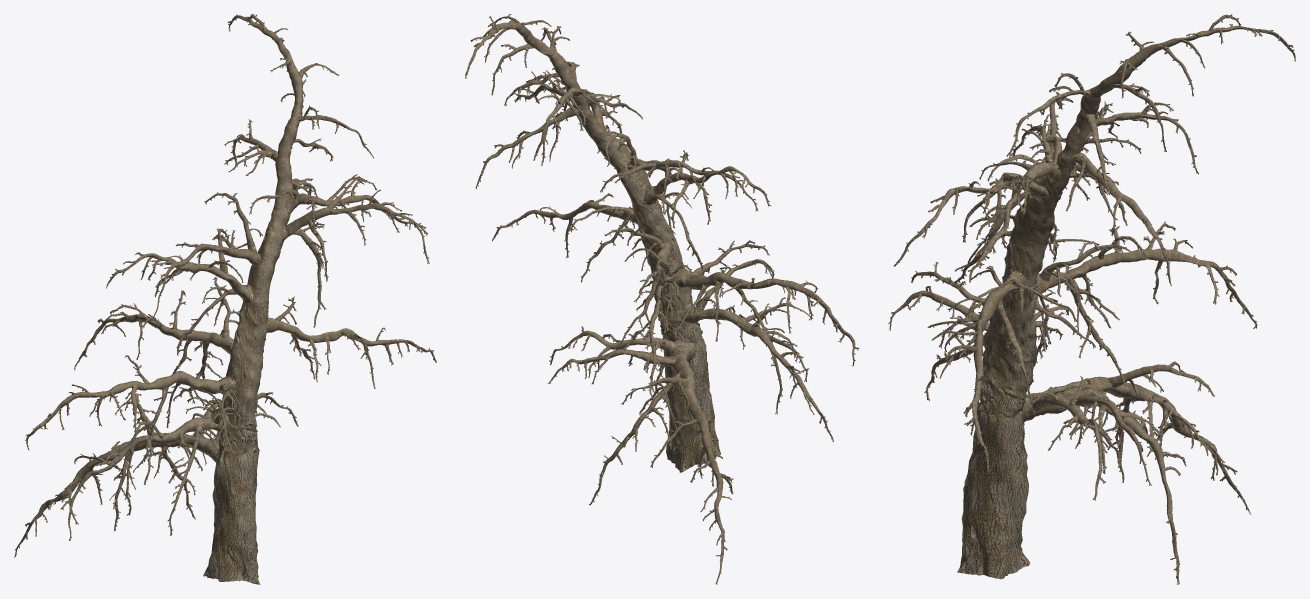
Rendered from old_pine_high-poly.glb.
3 views of the same model, side by side, from view 1: azimuth 30°, elevation 25°; view 2: azimuth 150°, elevation 25°; view 3: azimuth 270°, elevation 25° (orthographic). The views are drawn at different scales.
Visible parts, largest first — view 1: Object_3, Object_2, Object_4, Object_5; view 2: Object_3, Object_2, Object_4, Object_5; view 3: Object_3, Object_2, Object_4, Object_5, Object_6.
Part boxes in pixels (bbox=[...]): Object_3: bbox=[68, 190, 346, 584]; Object_2: bbox=[39, 14, 429, 514]; Object_4: bbox=[26, 51, 419, 532]; Object_5: bbox=[16, 19, 434, 553]; Object_3: bbox=[583, 114, 799, 475]; Object_2: bbox=[465, 24, 831, 519]; Object_4: bbox=[502, 19, 827, 545]; Object_5: bbox=[476, 14, 858, 581]; Object_3: bbox=[911, 147, 1212, 579]; Object_2: bbox=[893, 14, 1295, 531]; Object_4: bbox=[888, 43, 1234, 557]; Object_5: bbox=[889, 18, 1256, 581]; Object_6: bbox=[896, 14, 1258, 584].
Size of the model in its own units: 5.52 by 6.71 by 3.82.
1 material, 1 textured.
